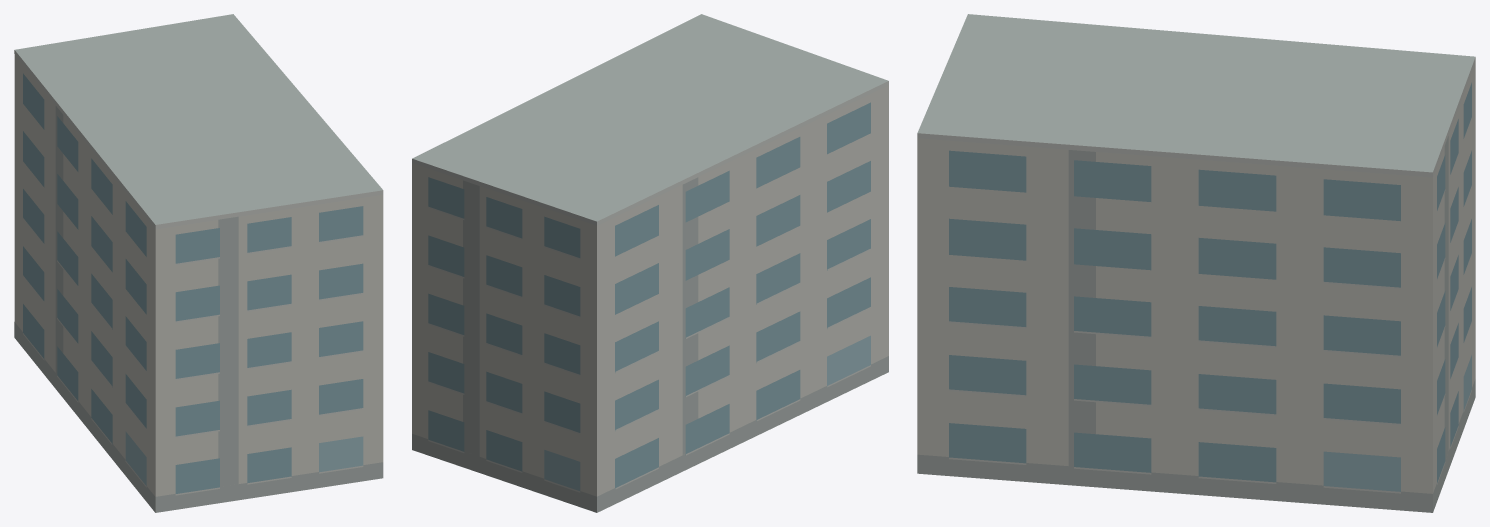
The model's file is survey-upis-32801937.glb.
The picture shows the model from 3 angles, left to right: view 1: azimuth 30°, elevation 25°; view 2: azimuth 150°, elevation 25°; view 3: azimuth 270°, elevation 25°; orthographic projection. The views are drawn at different scales.
Parts seen in each view (by area): view 1: survey-upis-32801937.tmp; view 2: survey-upis-32801937.tmp; view 3: survey-upis-32801937.tmp.
Part boxes in pixels (x1,y1,x2,y2): survey-upis-32801937.tmp: (14,14,383,512); survey-upis-32801937.tmp: (412,14,888,512); survey-upis-32801937.tmp: (917,14,1475,512).
Size of the model in its own units: 16.12 by 16.14 by 24.
